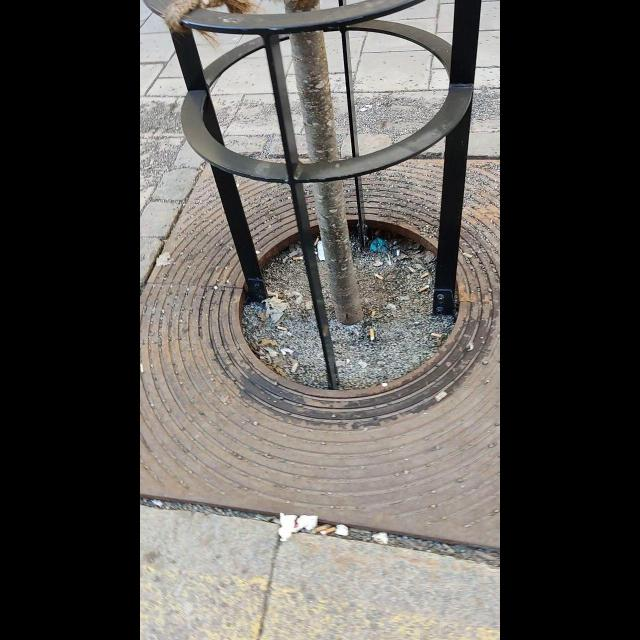cigarette: (322, 526, 336, 537), (435, 391, 447, 402), (317, 523, 326, 534), (277, 324, 287, 332), (418, 285, 429, 292), (430, 332, 441, 338), (292, 255, 303, 261), (292, 363, 298, 373), (314, 237, 320, 247), (306, 300, 312, 310), (371, 330, 377, 339), (375, 274, 384, 280), (422, 274, 428, 279), (371, 311, 376, 317)
